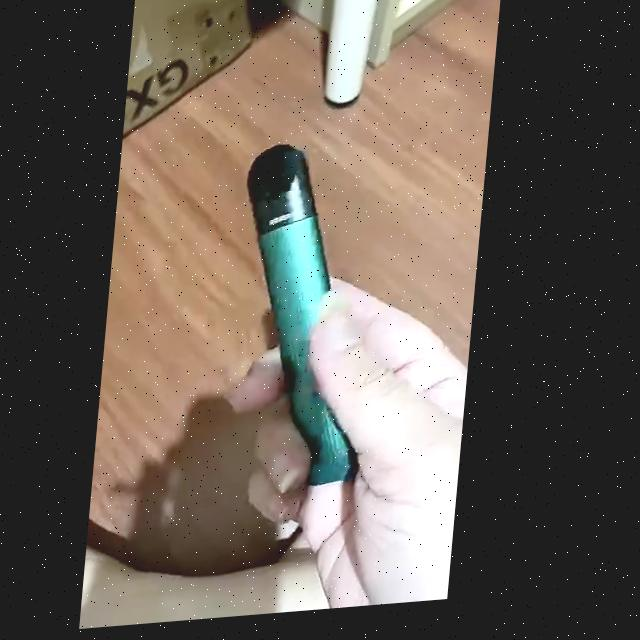vape: (227, 145, 394, 497)
